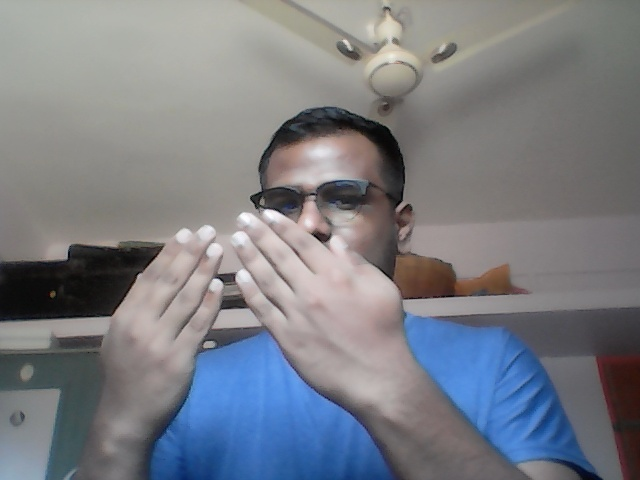Thank You: (98, 209, 412, 410)
